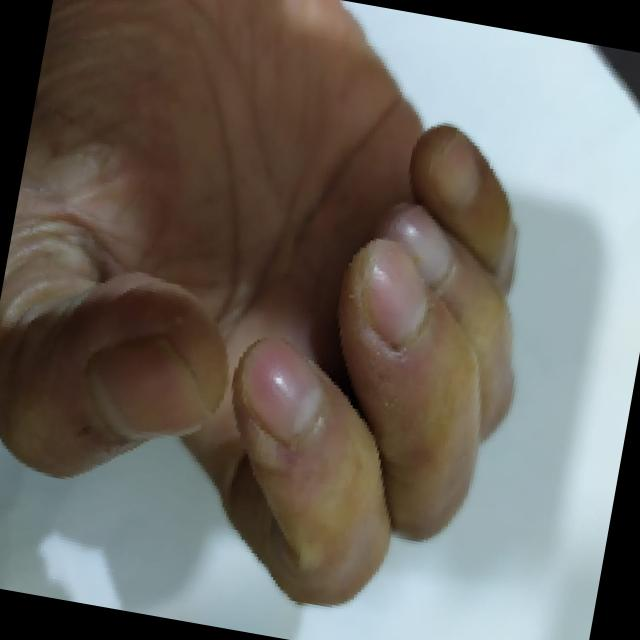Nail: (85, 335, 206, 436), (238, 339, 322, 440), (356, 234, 426, 344), (385, 205, 451, 284), (426, 139, 479, 207)
